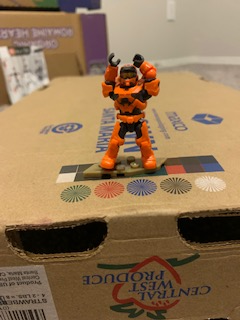spartan: (97, 52, 161, 171)
up: (98, 52, 161, 112)
